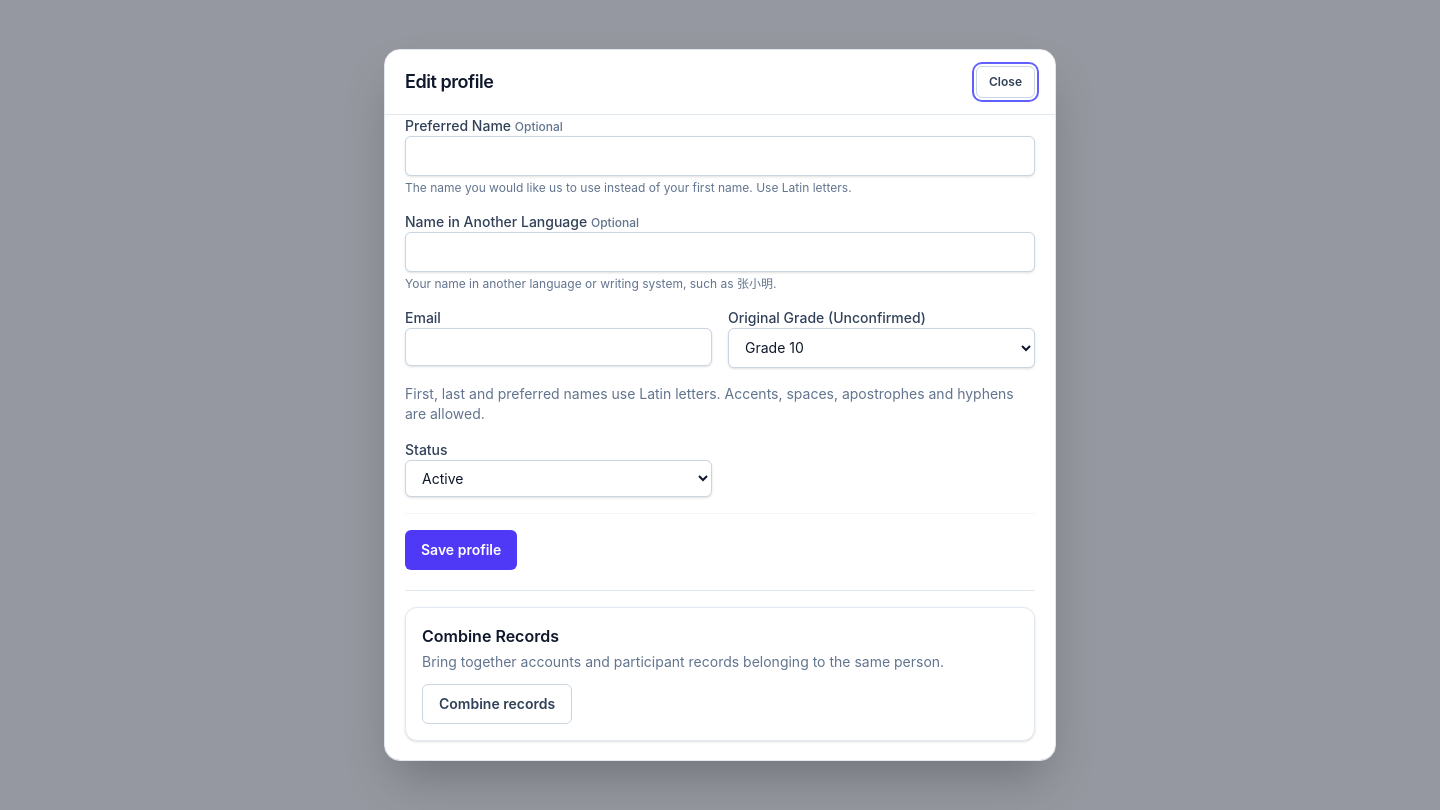
Test case: offers unified combination for a ACTIVE tutor with its exact source preselected
(page scrolled)
Click the button "Combine records" at (497, 704), box [422,684,572,724]
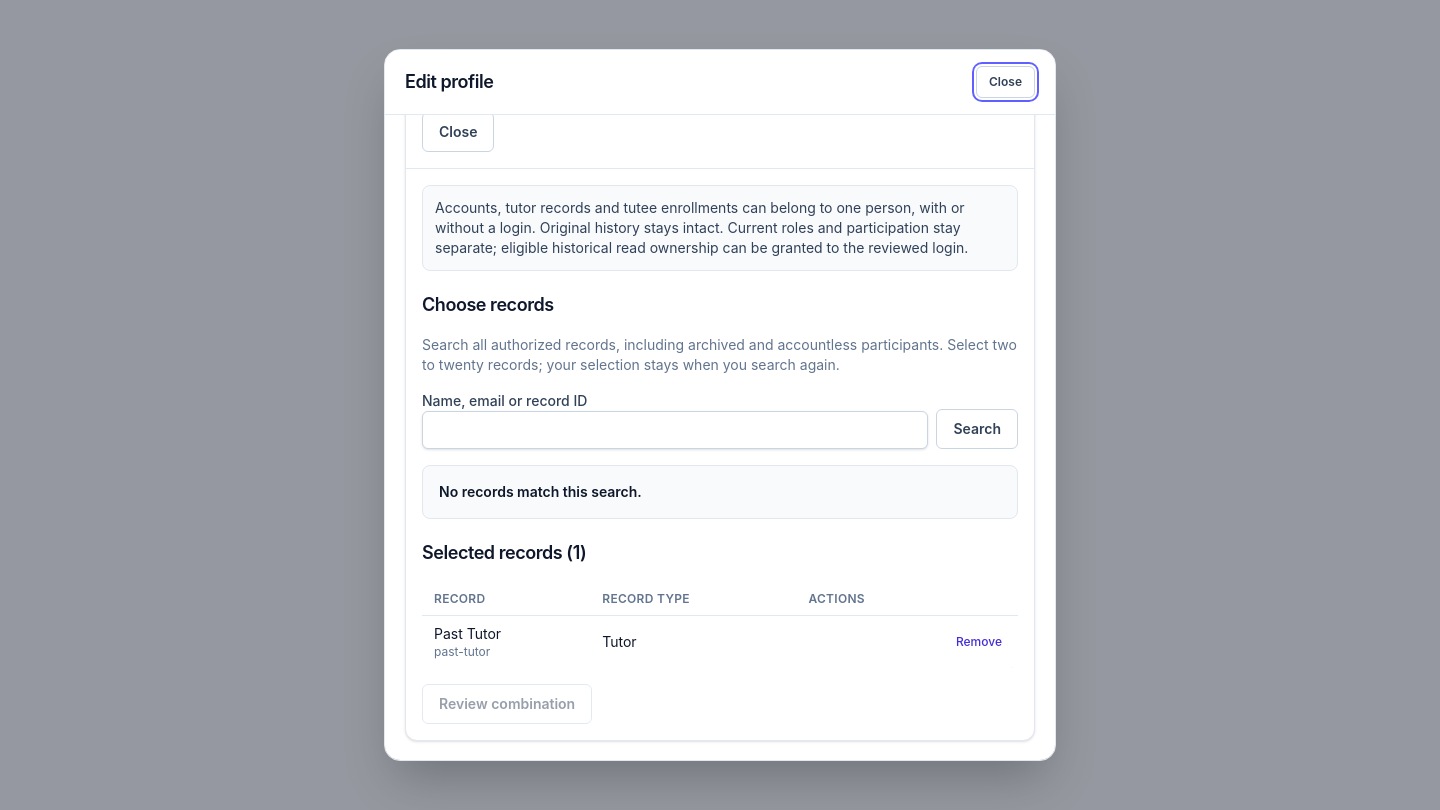
Expected: the text "past-tutor" is shown, [434,644,490,659]
Expected: the text "Past Tutor" is shown, [434,625,501,642]
